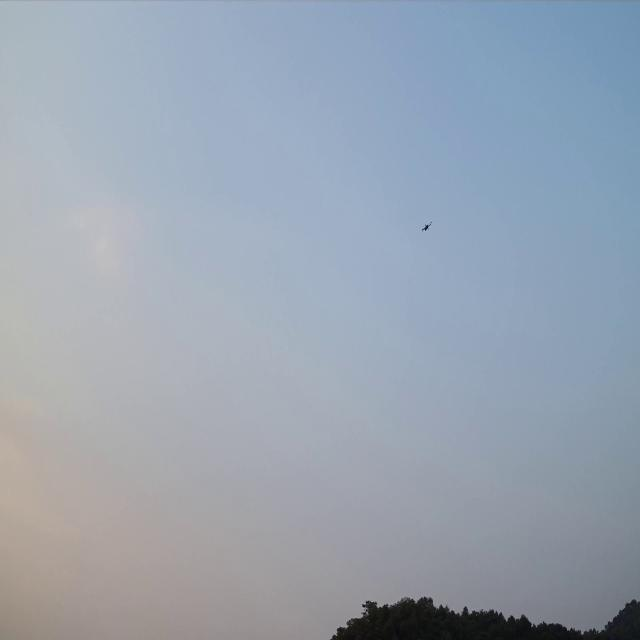UAV: (421, 220, 433, 234)
